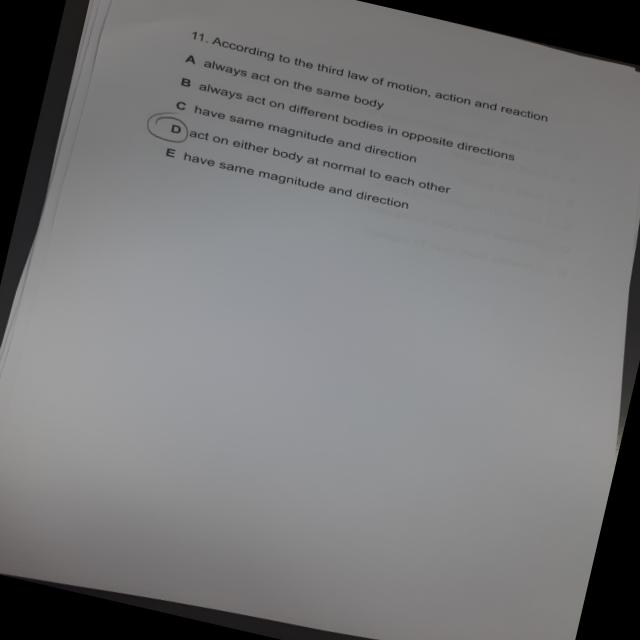D: (139, 106, 199, 148)
